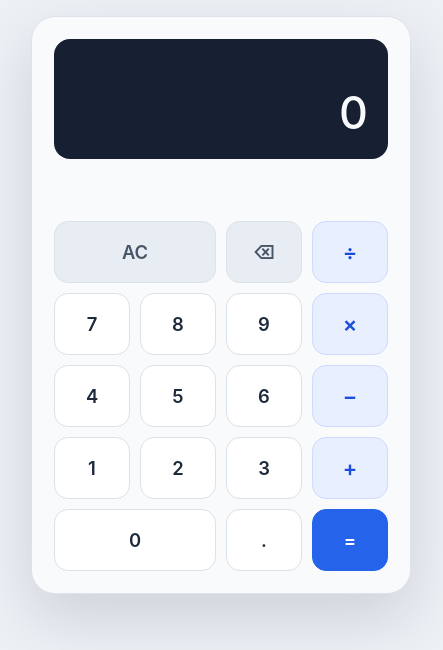
Test: Calculator › resets the calculator when AC is pressed
Click the button "9".
click(264, 324)  # box x1=226 y1=293 x2=302 y2=355
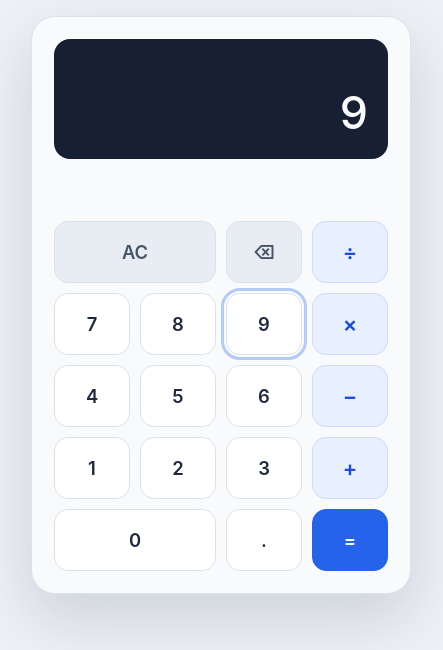
Click the button "+".
click(350, 468)  # box x1=312 y1=437 x2=388 y2=499
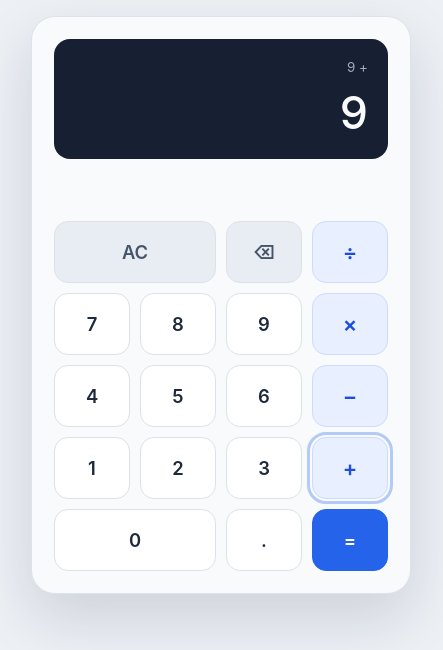
Click the button "4".
click(92, 396)  # box x1=54 y1=365 x2=130 y2=427
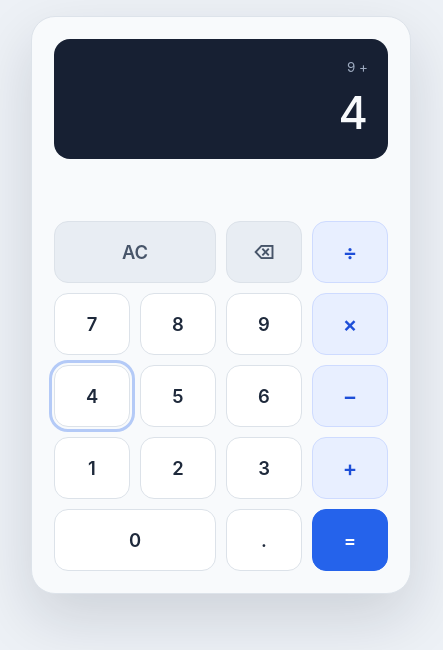
Click the button "AC".
click(135, 252)  # box x1=54 y1=221 x2=216 y2=283
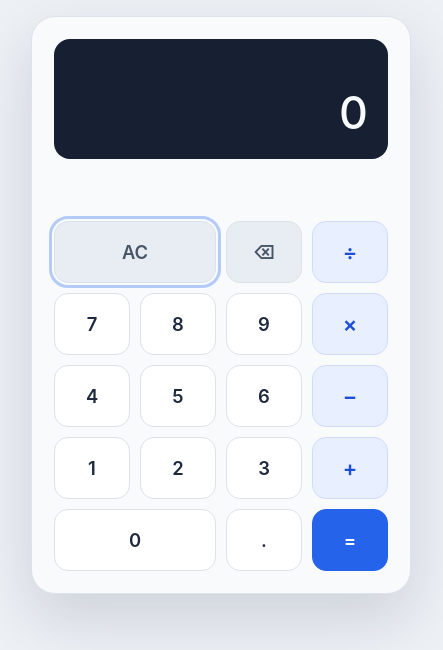
Expected: the text "9 +" is not shown
Expected: the text "0" is shown, x1=339 y1=86 x2=368 y2=140
